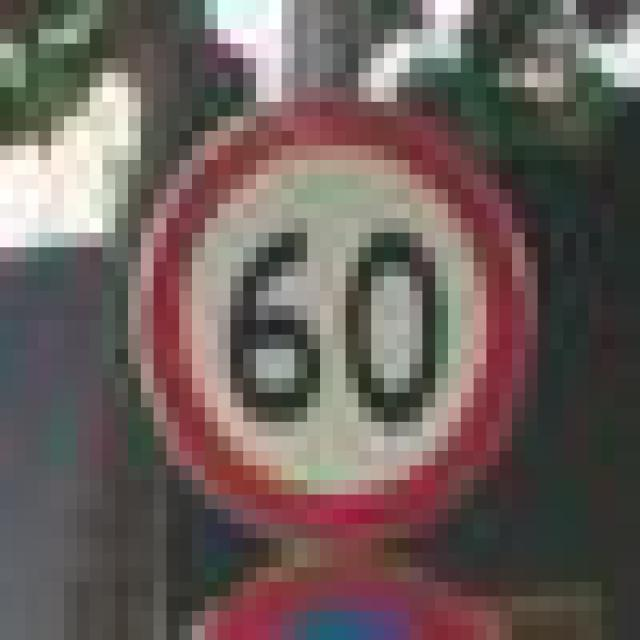speed_limit_40: (115, 87, 525, 538)
